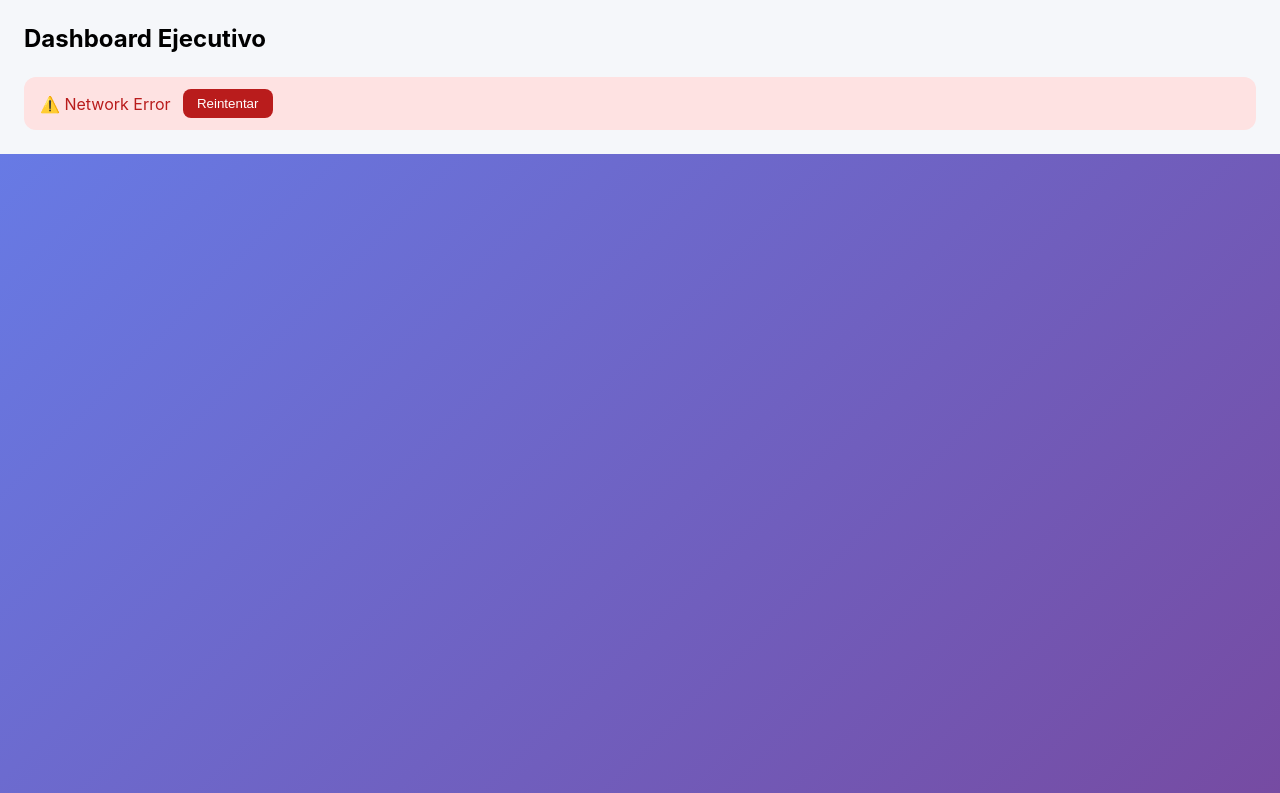
ExecutiveDashboard › muestra mensaje de error y permite reintentar
The width and height of the screenshot is (1280, 793).
Expected: the text "⚠️ Network Error" is shown, [40, 94, 170, 114]
Click the button "Reintentar": (228,104) [182, 89, 273, 118]
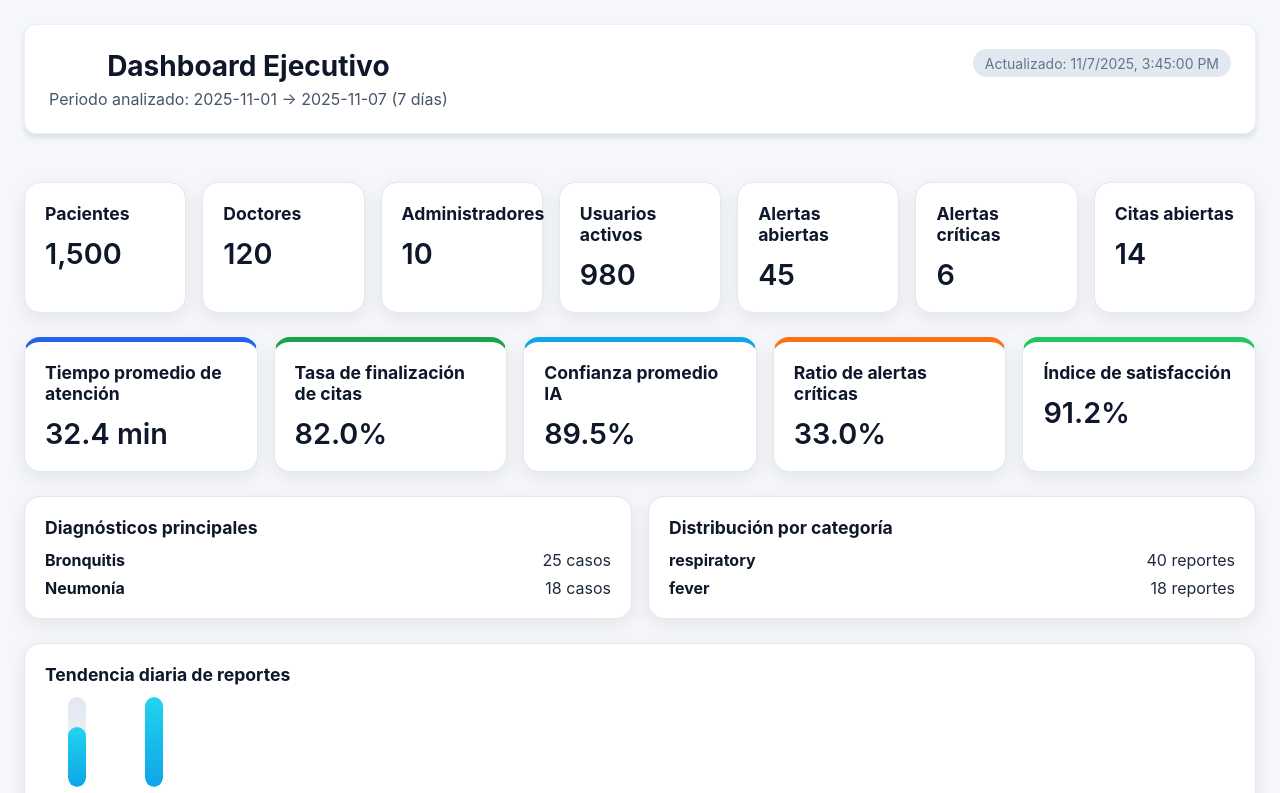
Expected: the heading "Pacientes" is shown, [45, 203, 130, 224]
